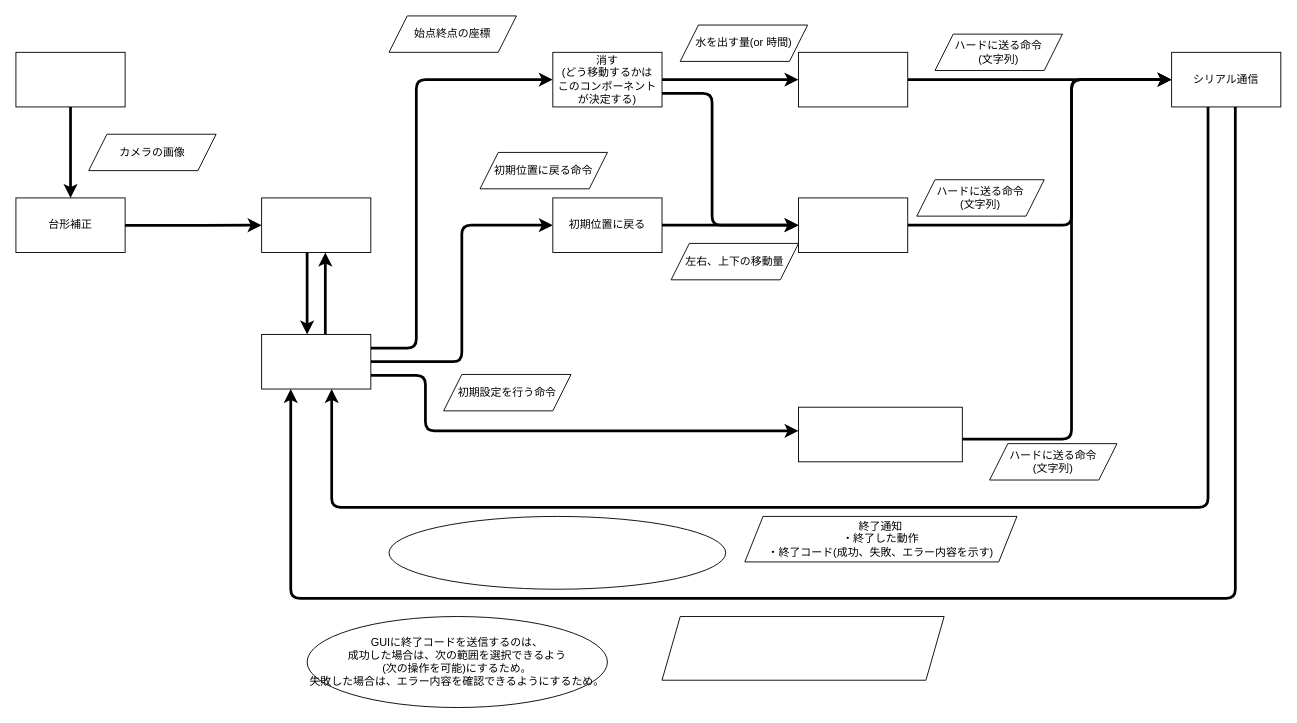
Image size: 1297x723. Some labels were removed from this diagram. The shapes that lost their labels are listed below. From the top down, each one's box as (x1, y1, x2, y2) in pixels, then its label:
(15, 51, 125, 107): カメラ
(798, 51, 908, 107): ポンプから水を出す
(261, 197, 371, 253): 範囲選択等の操作 (GUI)
(798, 197, 908, 253): モーターを動かす
(261, 334, 371, 389): ホワイトボード の操作
(798, 406, 962, 462): 初期設定 (左右、上下の大きさを リミットスイッチで測定する)
(388, 516, 726, 589): 終了コードに動作の内容も含めることもできますが 一応分けてあります。 例 水を出すのに失敗した 「動作:水,コード:404」→「W404」
(661, 616, 944, 680): 緊急停止の通知と停止コード これを元にGUIにエラーメッセージを表示するため 例:緊急停止ボタンが押された→Code404
